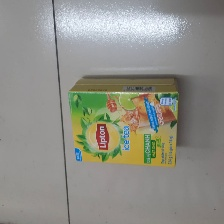LipTon: (66, 75, 179, 170)
